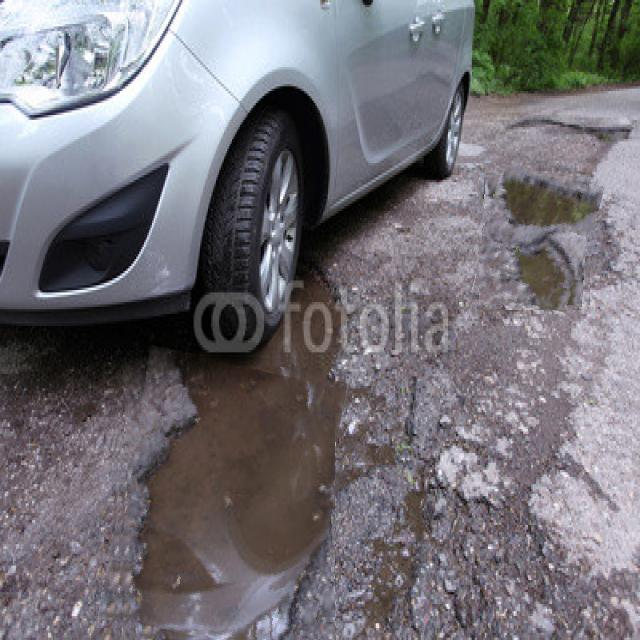Pothole: (109, 353, 335, 640), (479, 168, 597, 310)
